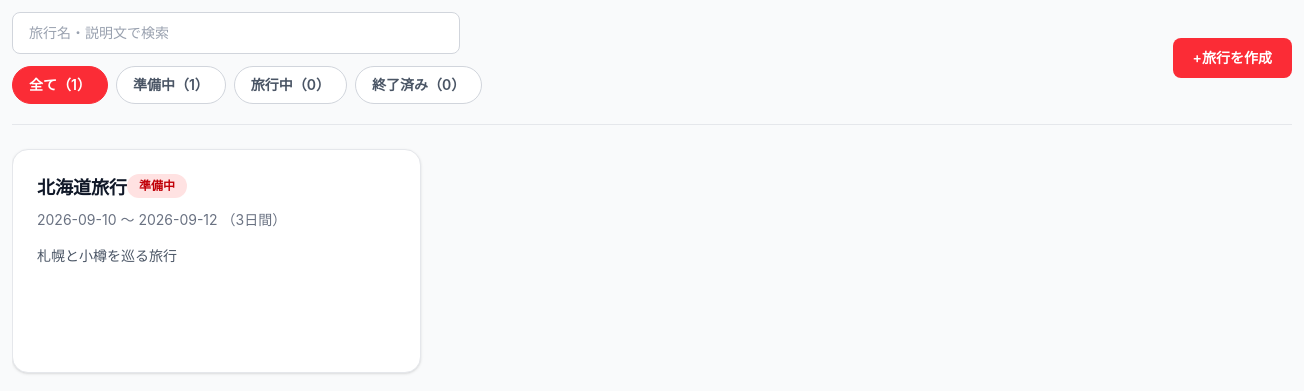
Scenario: TripListPage › 選択したステータスに旅行がない場合は空状態を表示する
Expected: the heading "北海道旅行" is shown, [37,174,127,202]
What coordinates should you click on to do the following:
click the button "終了済み（0）"
I would click on:
 (419, 85)
Its box is [355,66,482,104].
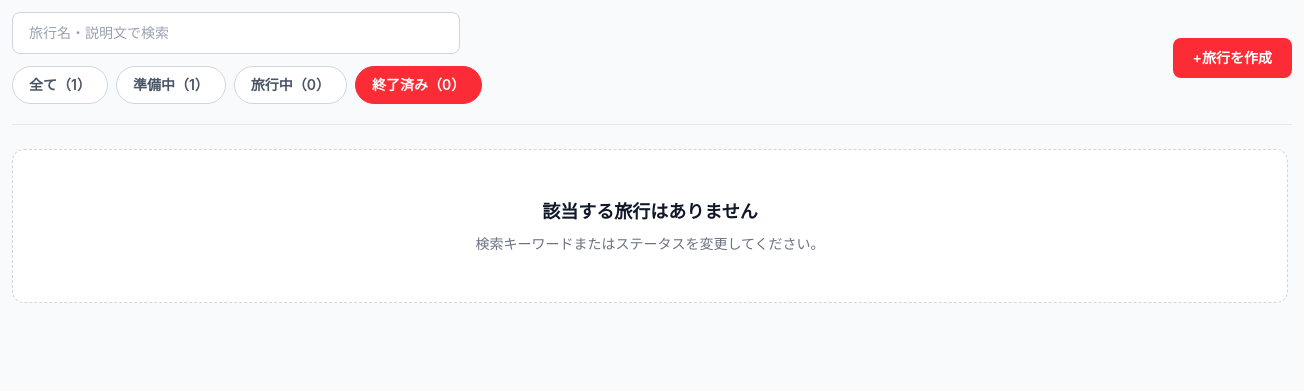
Expected: the heading "該当する旅行はありません" is shown, [542,201,758,222]
